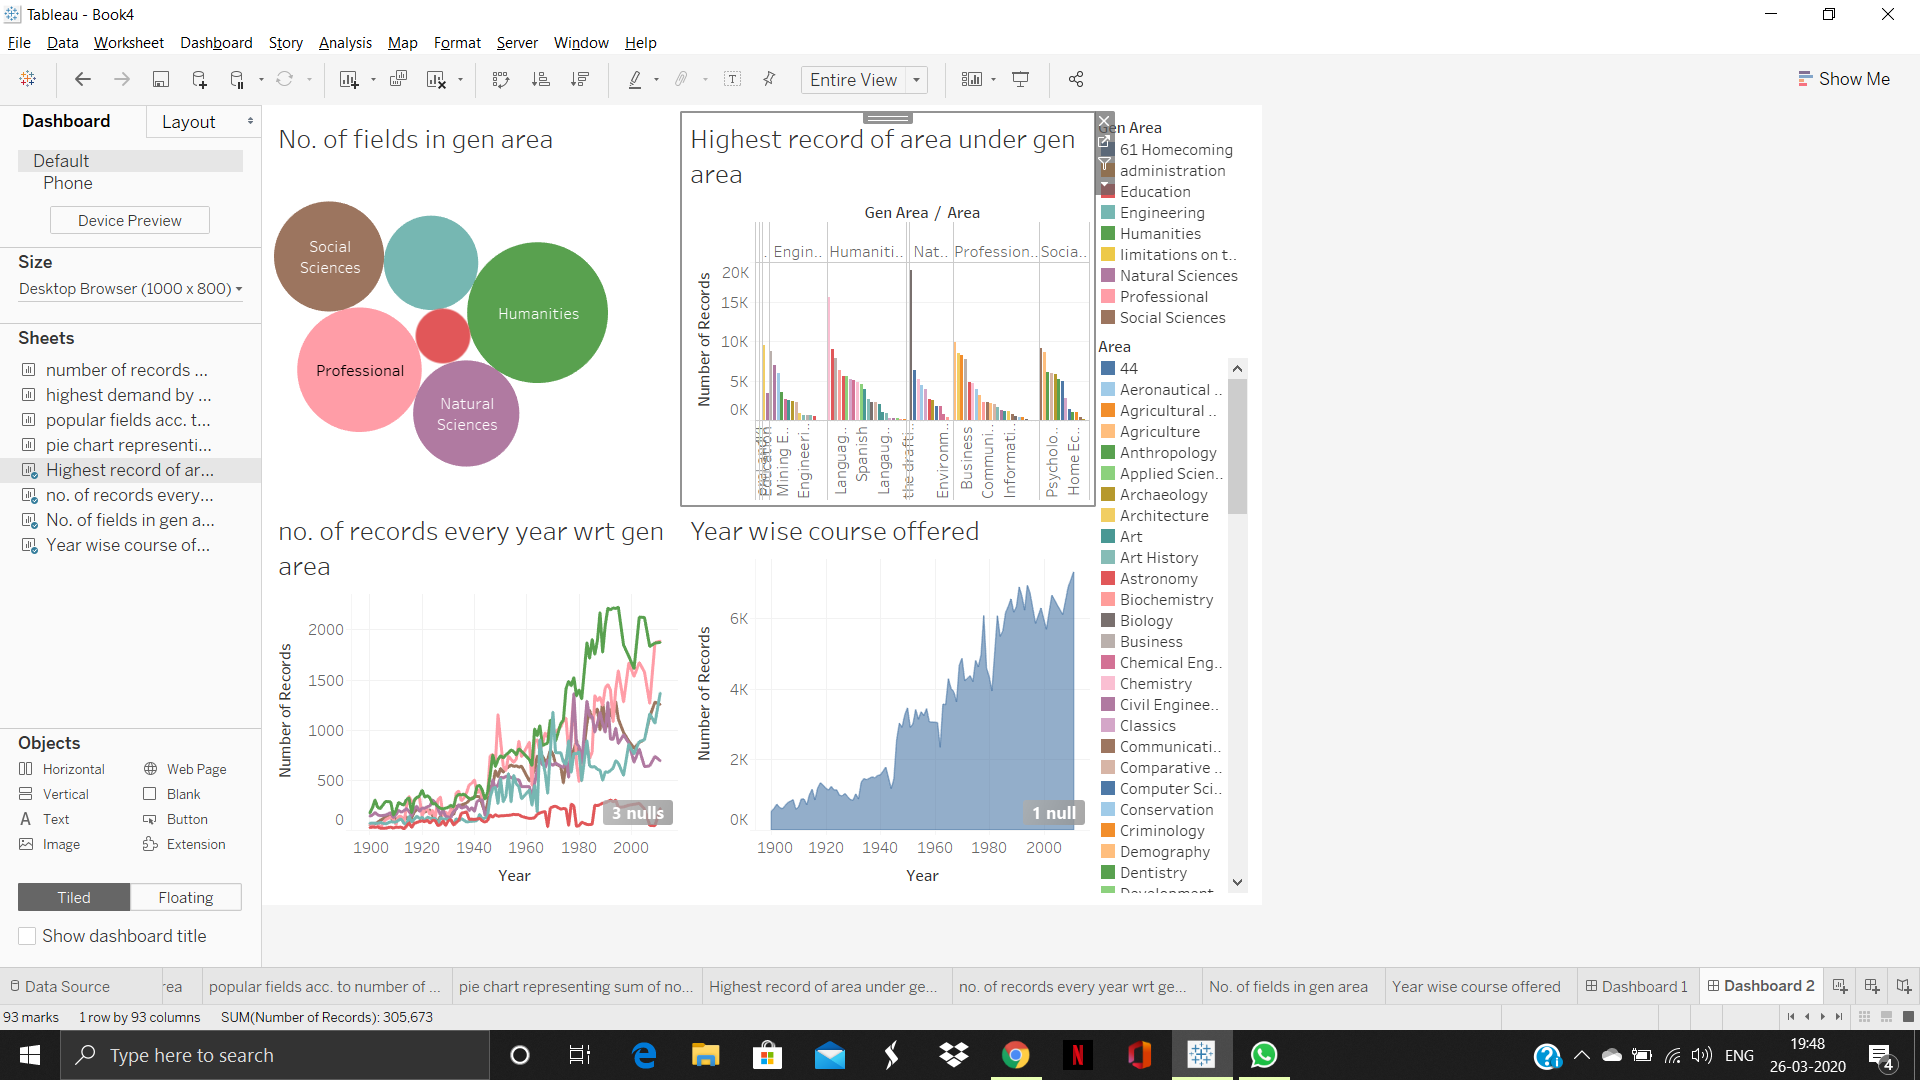

The page's visual inventory and layout, read from the dashboard file:
{"tool":"tableau","page":{"name":"Dashboard 2","canvas":[1000,800],"ordinal":1},"visuals":[{"type":"worksheet","title":"No. of fields in gen area","mark":"Circle","box":[8,8,412,392]},{"type":"worksheet","title":"Highest record of area under gen area","mark":"Automatic","rows":["Number of Records"],"cols":["GenArea","Area"],"box":[420,8,412,392]},{"type":"legend","title":"No. of fields in gen area","param":"[federated.02bfpi31rhwnfk19b0wvy003i20q].[none:GenArea:nk]","box":[832,8,160,219]},{"type":"legend","title":"Highest record of area under gen area","param":"[federated.02bfpi31rhwnfk19b0wvy003i20q].[none:Area:nk]","box":[832,227,160,565]},{"type":"worksheet","title":"no. of records every year wrt gen area","mark":"Automatic","rows":["Number of Records"],"cols":["Year"],"box":[8,400,412,392]},{"type":"worksheet","title":"Year wise course offered","mark":"Area","rows":["Number of Records"],"cols":["Year"],"box":[420,400,412,392]}]}

Visuals, with their boxes on the page's 1000x800 design canvas (x1, y1, x2, y2). These are canvas units, not pixel positions in the 1920x1080 screenshot, which may show the page scaled, cropped or inside an application window:
"No. of fields in gen area" worksheet (Circle marks): rect(8, 8, 420, 400)
"Highest record of area under gen area" worksheet: rect(420, 8, 832, 400)
"No. of fields in gen area" legend: rect(832, 8, 992, 227)
"Highest record of area under gen area" legend: rect(832, 227, 992, 792)
"no. of records every year wrt gen area" worksheet: rect(8, 400, 420, 792)
"Year wise course offered" worksheet (Area marks): rect(420, 400, 832, 792)
